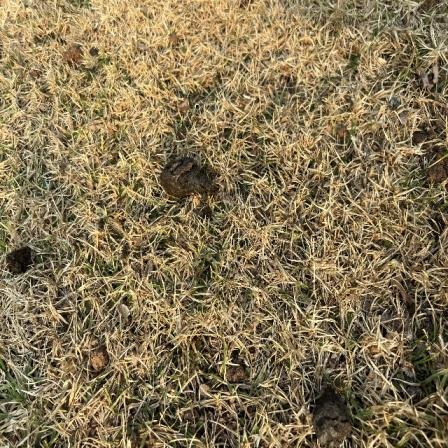dog-poop: (158, 154, 218, 198)
